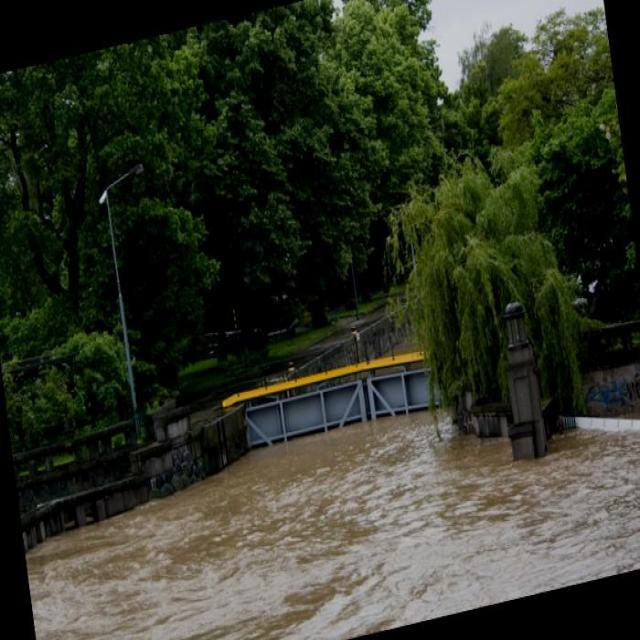flood: (18, 326, 639, 639)
